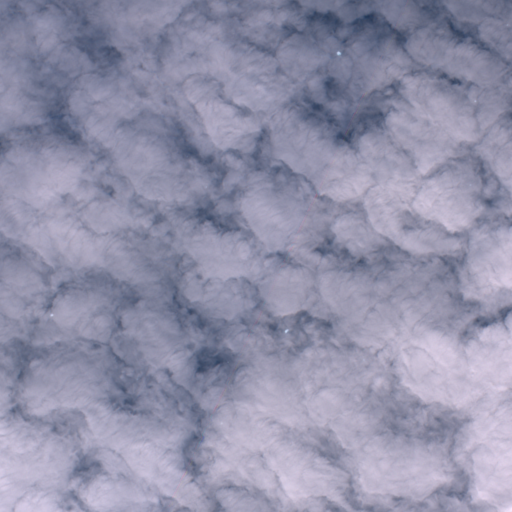Iceberg: (337, 51, 340, 54), (285, 329, 288, 332), (474, 100, 475, 101), (51, 314, 52, 315)
